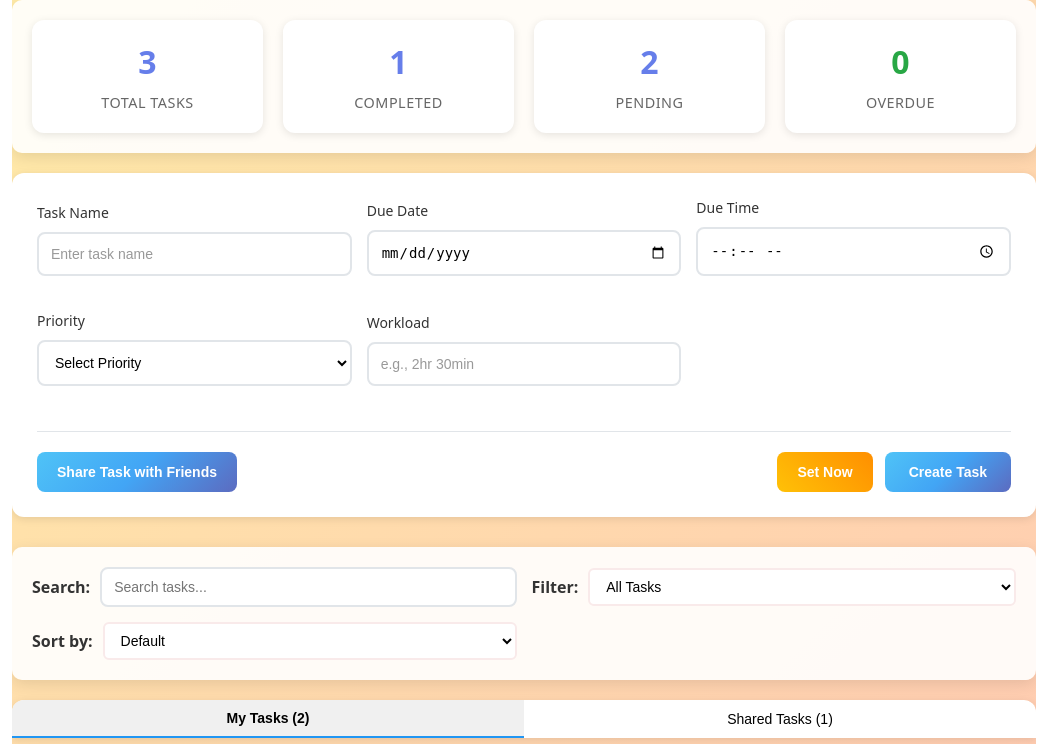
Test: Task component › validates workload format
Type "New Task" into the field with placeholder "Enter task name".
click(194, 254); type("New Task")  # box [37,232,352,276]
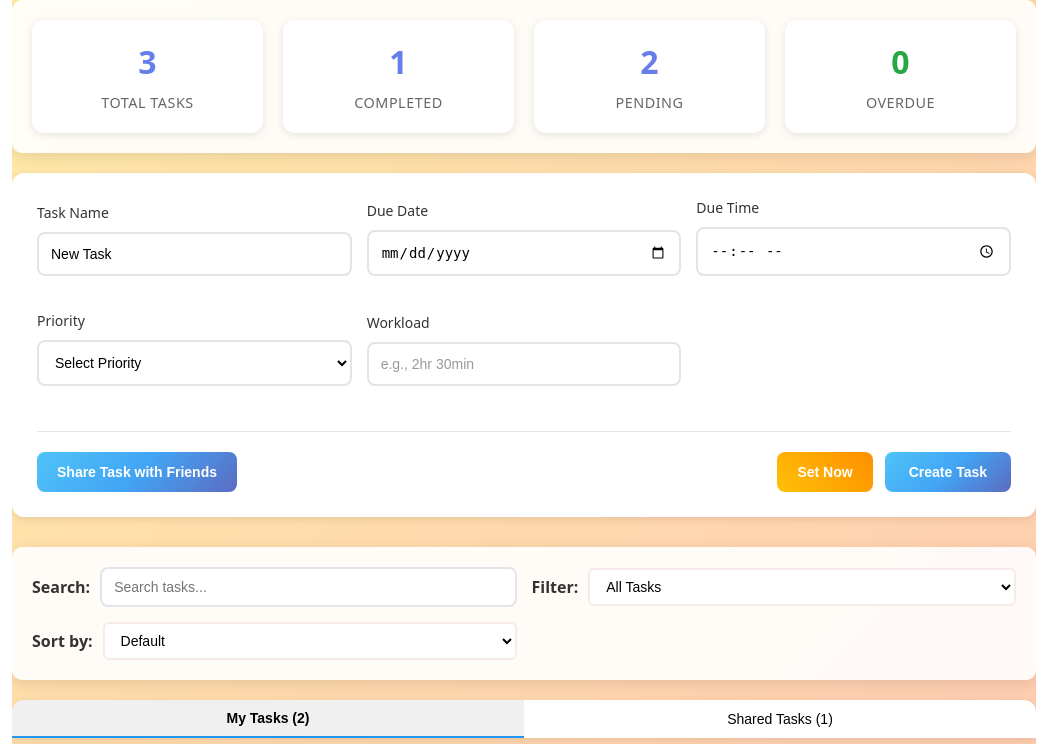
Type "2099-12-30" into the date field labelled "Due Date".
click(524, 253); type("2099-12-30")  # box [367,230,681,276]
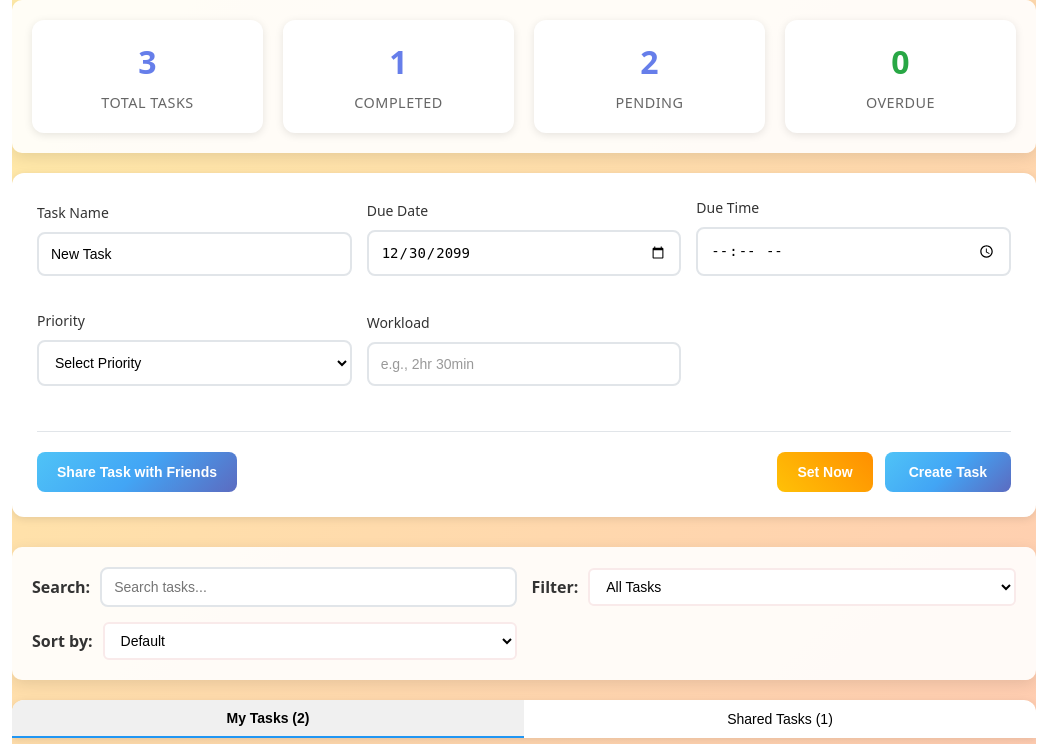
Select "High Priority" in the dropdown labelled "Priority" at point(194, 363), box [37,340,352,386]
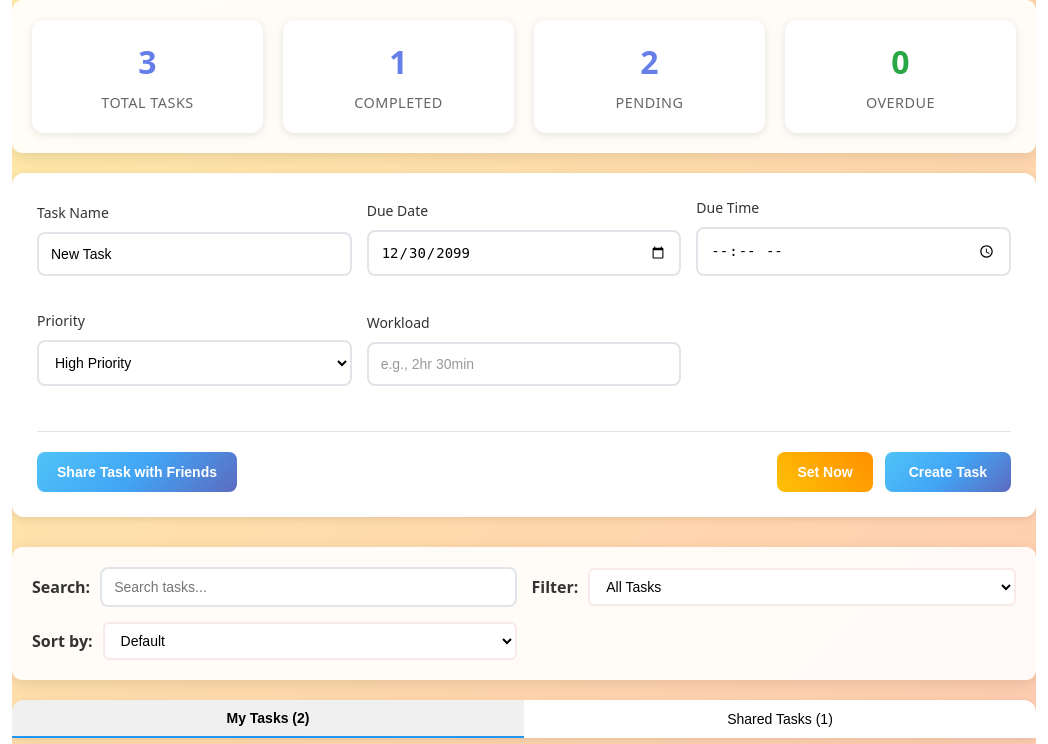
Type "1hr" into the field with placeholder "e.g., 2hr 30min".
click(524, 364); type("1hr")  # box [367,342,681,386]
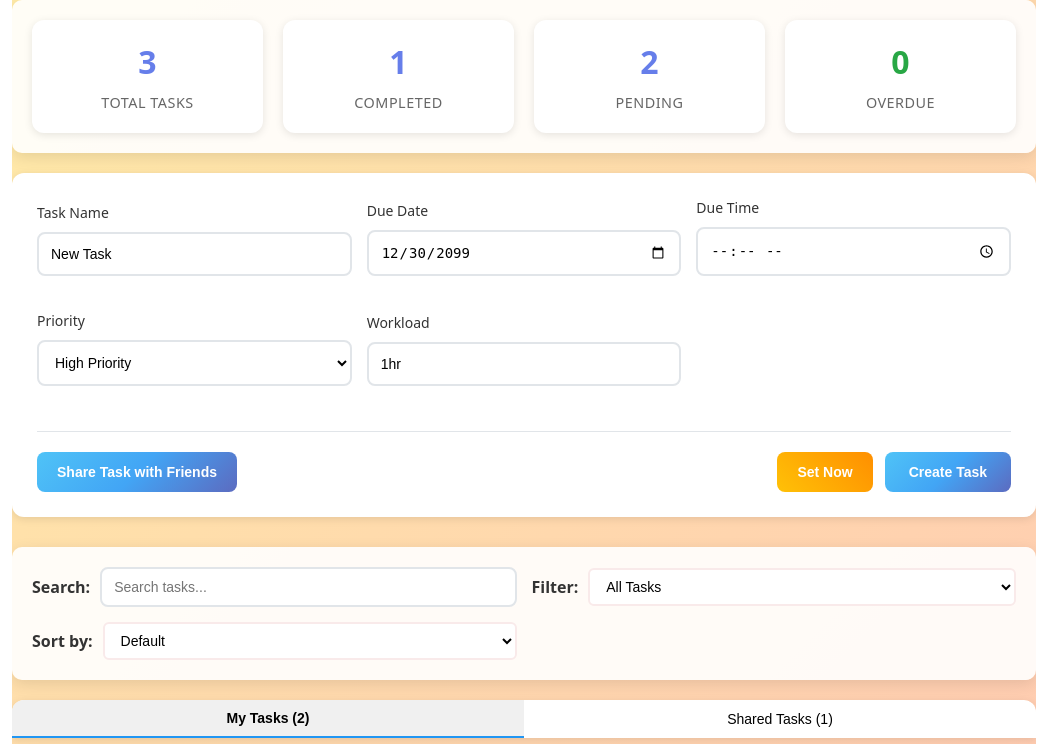
Replace the text in the field with placeholder "e.g., 2hr 30min" with "invalid" at point(524, 364), box [367,342,681,386]
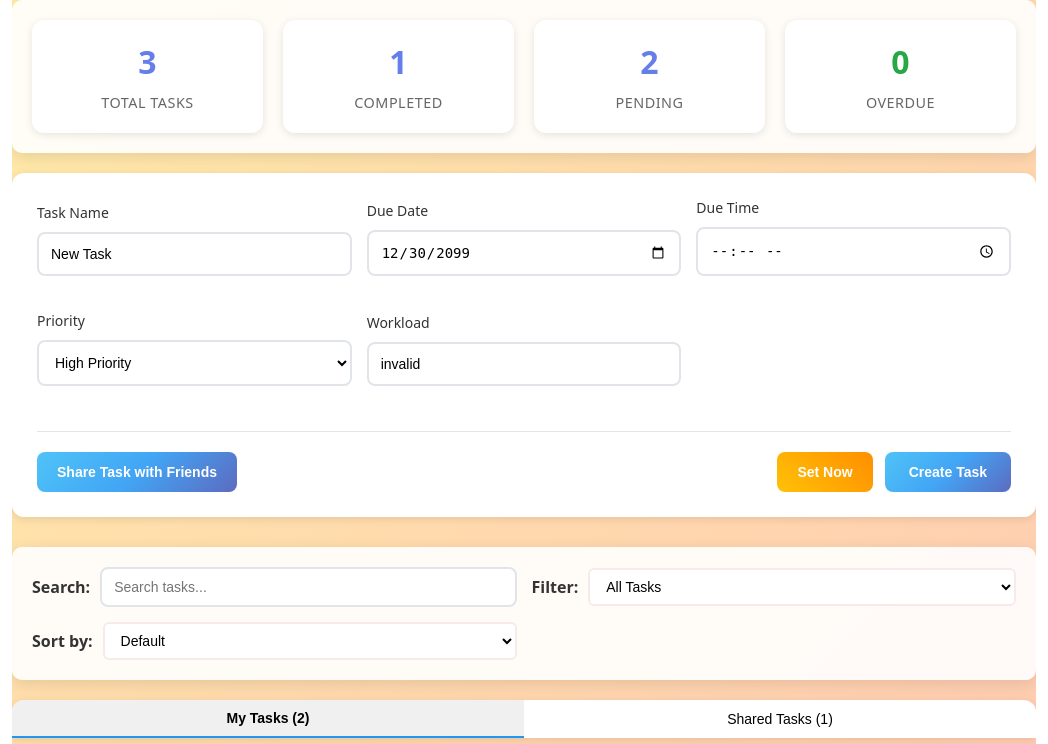
Click the button "Create Task".
click(948, 472)  # box [885,452,1011,492]
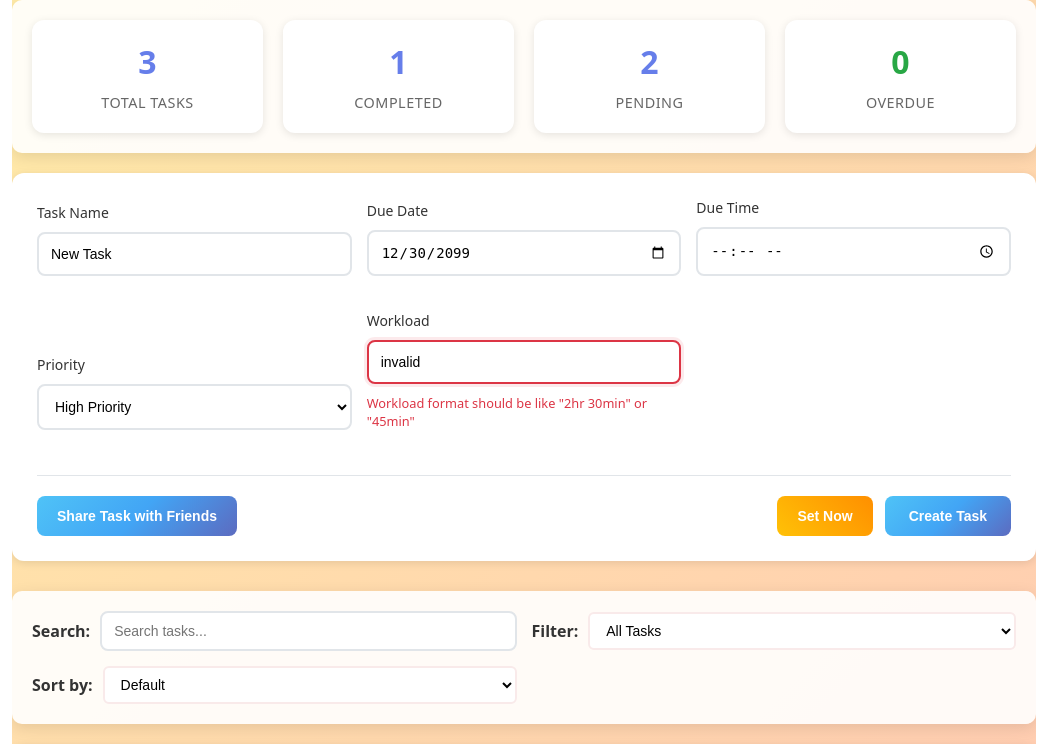
Expected: the text "Workload format should be like \"2hr 30min\" or \"45min\"" is shown, [367,394,681,430]
